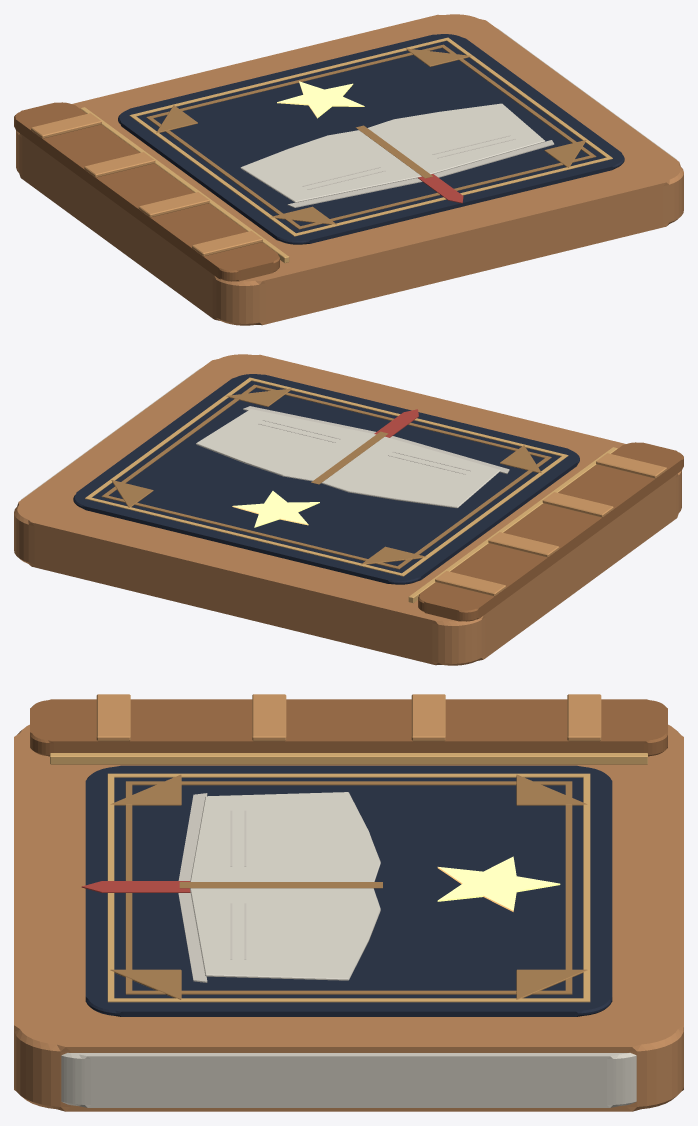
The model's file is review_first.glb.
3 views of the same model, one above another, from view 1: azimuth 30°, elevation 25°; view 2: azimuth 150°, elevation 25°; view 3: azimuth 270°, elevation 25° (orthographic). The views are drawn at different scales.
Visible parts, largest first — view 1: RV_Cover, RV_Field, RV_Leaves, RV_Spine, RV_Rule0, RV_SpineBands, RV_Rule1, RV_Stacks, RV_Star, RV_Hinge, RV_Gutter, RV_Corner11 (+5 smaller); view 2: RV_Cover, RV_Field, RV_Leaves, RV_Spine, RV_Rule0, RV_SpineBands, RV_Rule1, RV_Star, RV_Hinge, RV_Stacks, RV_Gutter, RV_Corner1-1 (+5 smaller); view 3: RV_Field, RV_Cover, RV_PageBlock, RV_Leaves, RV_Spine, RV_Rule0, RV_Hinge, RV_Rule1, RV_SpineBands, RV_Star, RV_Stacks, RV_Gutter (+6 smaller).
Part boxes in pixels (bbox=[...]): RV_Cover: bbox=[16, 14, 683, 325]; RV_Field: bbox=[118, 34, 624, 244]; RV_Leaves: bbox=[240, 103, 545, 202]; RV_Spine: bbox=[14, 102, 279, 281]; RV_Rule0: bbox=[129, 37, 612, 236]; RV_SpineBands: bbox=[31, 113, 262, 256]; RV_Rule1: bbox=[146, 44, 596, 229]; RV_Stacks: bbox=[287, 140, 554, 207]; RV_Star: bbox=[277, 81, 364, 118]; RV_Hinge: bbox=[80, 107, 289, 262]; RV_Gutter: bbox=[355, 125, 432, 178]; RV_Corner11: bbox=[406, 48, 471, 66]; RV_Cover: bbox=[14, 354, 681, 665]; RV_Field: bbox=[73, 374, 579, 584]; RV_Leaves: bbox=[196, 409, 500, 508]; RV_Spine: bbox=[418, 442, 683, 621]; RV_Rule0: bbox=[85, 377, 568, 576]; RV_SpineBands: bbox=[435, 453, 666, 596]; RV_Rule1: bbox=[101, 384, 551, 569]; RV_Star: bbox=[232, 491, 319, 527]; RV_Hinge: bbox=[408, 447, 617, 602]; RV_Stacks: bbox=[243, 406, 509, 473]; RV_Gutter: bbox=[311, 431, 388, 484]; RV_Corner1-1: bbox=[226, 388, 291, 406]; RV_Field: bbox=[85, 765, 612, 1016]; RV_Cover: bbox=[14, 724, 683, 1111]; RV_PageBlock: bbox=[61, 1053, 636, 1107]; RV_Leaves: bbox=[190, 792, 380, 980]; RV_Spine: bbox=[30, 699, 667, 756]; RV_Rule0: bbox=[107, 773, 590, 1002]; RV_Hinge: bbox=[50, 753, 647, 764]; RV_Rule1: bbox=[125, 781, 572, 994]; RV_SpineBands: bbox=[96, 694, 601, 741]; RV_Star: bbox=[437, 856, 560, 911]; RV_Stacks: bbox=[178, 793, 207, 982]; RV_Gutter: bbox=[179, 882, 382, 888].
Bounding box in the file's own units: 0.0399 × 0.00474 × 0.0336.
